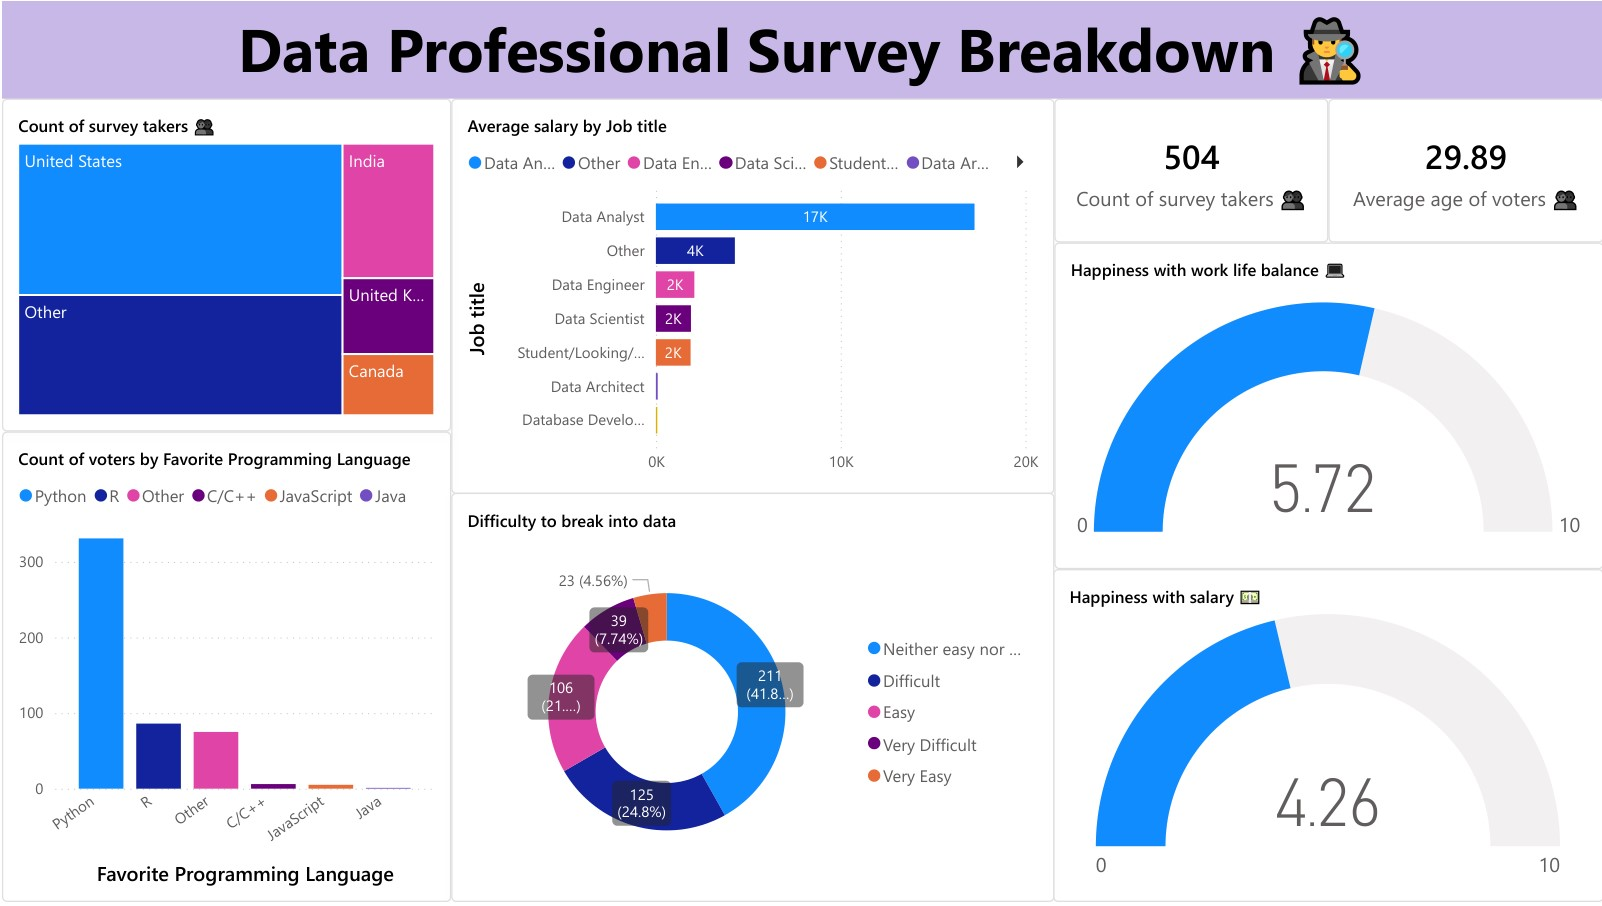

Layout of this report page (visuals, bound fields, positions):
{"tool":"powerbi","page":{"name":"Dashboard","canvas":[1280,720],"ordinal":0},"visuals":[{"type":"card","fields":{"Values":["CountNonNull(Data Professional Survey.Unique ID)"]},"box":[840.7,77.7,219.3,115.3],"z":0},{"type":"card","fields":{"Values":["Avg(Data Professional Survey.Q10 - Current Age)"]},"box":[1059.6,77.6,220.7,115.7],"z":1000},{"type":"barChart","title":"Average salary by Job title","fields":{"Category":["Data Professional Survey.Q1 - Which Title Best Fits your Current Role?.1"],"Y":["Sum(Data Professional Survey.Average salary)"],"Series":["Data Professional Survey.Q1 - Which Title Best Fits your Current Role?.1"]},"box":[359.4,78.1,481.2,315.6],"z":2000},{"type":"columnChart","title":"Count of voters by Favorite Programming Language","fields":{"Category":["Data Professional Survey.Q5 - Favorite Programming Language.1"],"Y":["CountNonNull(Data Professional Survey.Unique ID)"],"Series":["Data Professional Survey.Q5 - Favorite Programming Language.1"]},"box":[0,344.1,359.3,376],"z":3000},{"type":"treemap","title":"Count of survey takers 👥","fields":{"Group":["Data Professional Survey.Q11 - Which Country do you live in?.1"],"Values":["CountNonNull(Data Professional Survey.Q11 - Which Country do you live in?.1)"]},"box":[0,77.6,359.3,266.4],"z":4000},{"type":"gauge","title":"Happiness with work life balance 💻","fields":{"Y":["Avg(Data Professional Survey.Q6 - How Happy are you in your Current Position with the following? (Work/Life Bal"],"MinValue":["Min(Data Professional Survey.Q6 - How Happy are you in your Current Position with the following? (Work/Life Balance))"],"MaxValue":["Max(Data Professional Survey.Q6 - How Happy are you in your Current Position with the following? (Work/Life Balance))"]},"box":[840.5,193.4,439.8,260.4],"z":5000},{"type":"gauge","title":"Happiness with salary 💵","fields":{"Y":["Avg(Data Professional Survey.Q6 - How Happy are you in your Current Position with the following? (Salary))"],"MinValue":["Min(Data Professional Survey.Q6 - How Happy are you in your Current Position with the following? (Salary))"],"MaxValue":["Max(Data Professional Survey.Q6 - How Happy are you in your Current Position with the following? (Salary))"]},"box":[840.3,453.7,440,266.4],"z":6000},{"type":"donutChart","title":"Difficulty to break into data","fields":{"Category":["Data Professional Survey.Q7 - How difficult was it for you to break into Data?"],"Y":["CountNonNull(Data Professional Survey.Q7 - How difficult was it for you to break into Data?)"]},"box":[358.7,393,481.9,327.5],"z":7000},{"type":"textbox","box":[0,0,1280.3,77.6],"z":8000}]}

Visuals, with their boxes in screenshot pixels (x1, y1, x2, y2), scaled from the page's 1280x720 canvas onto the 1602x906 screenshot:
card - CountNonNull(Data Professional Survey.Unique ID): BBox(1052, 98, 1327, 243)
card - Avg(Data Professional Survey.Q10 - Current Age): BBox(1326, 98, 1601, 243)
"Average salary by Job title" barChart: BBox(450, 98, 1052, 495)
"Count of voters by Favorite Programming Language" columnChart: BBox(0, 433, 450, 905)
"Count of survey takers 👥" treemap: BBox(0, 98, 450, 433)
"Happiness with work life balance 💻" gauge: BBox(1052, 243, 1601, 571)
"Happiness with salary 💵" gauge: BBox(1052, 571, 1601, 905)
"Difficulty to break into data" donutChart: BBox(449, 495, 1052, 905)
textbox: BBox(0, 0, 1601, 98)
